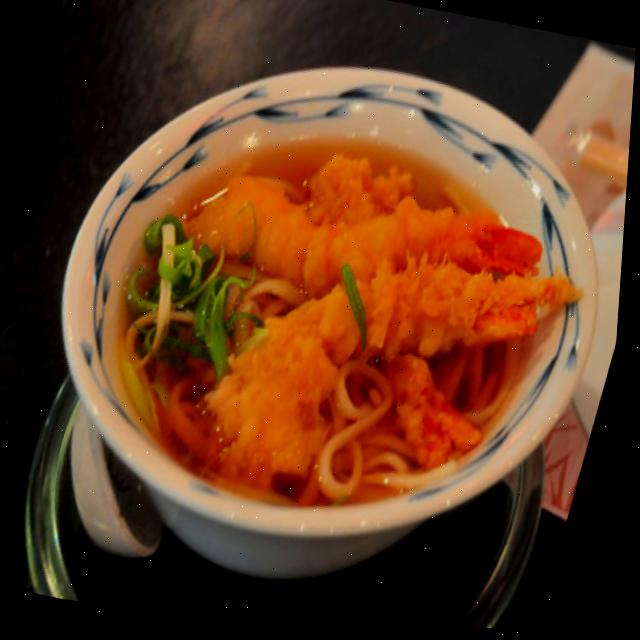面条主食: (67, 85, 611, 553)
